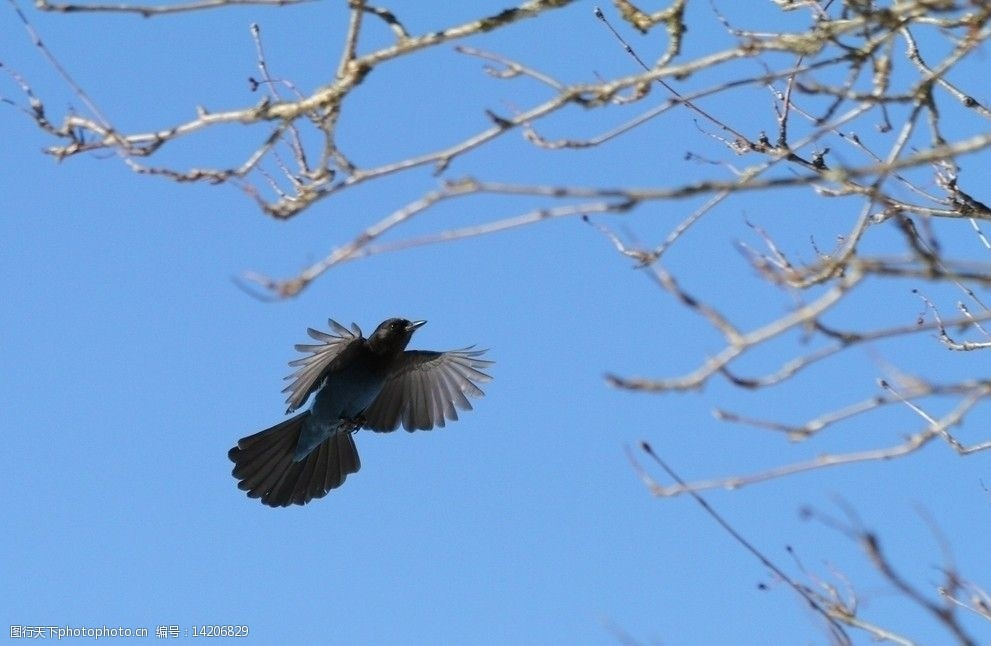bird: (216, 302, 492, 523)
